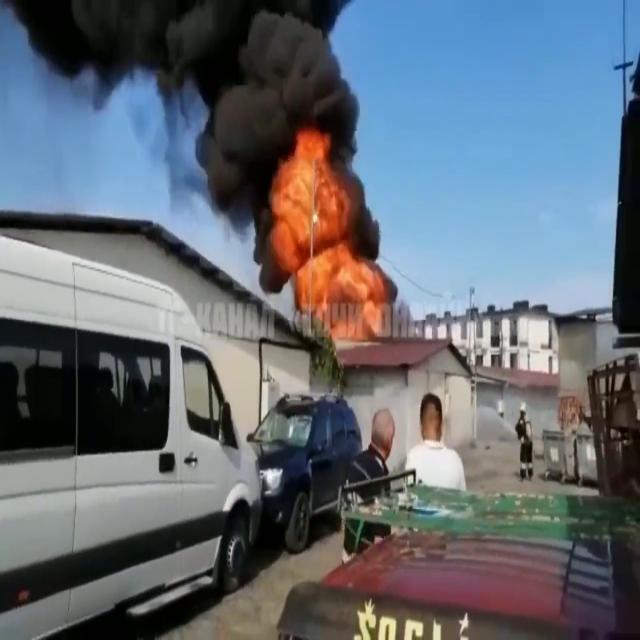Fire: (270, 130, 380, 335)
Smoke: (14, 0, 378, 294)
